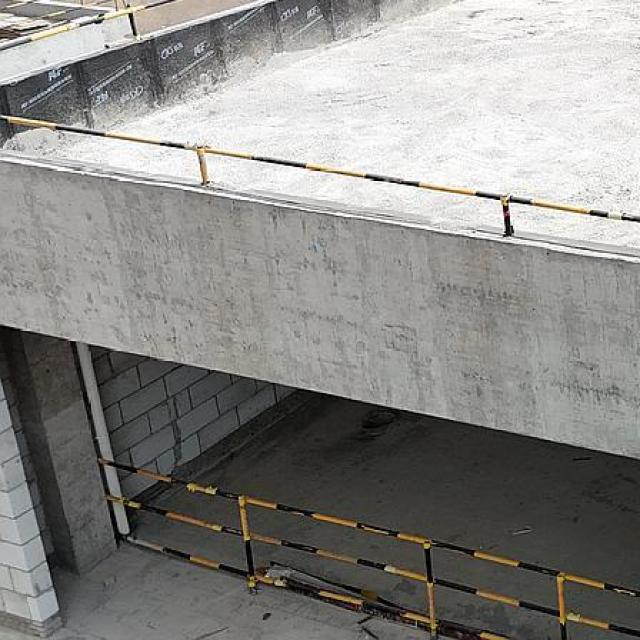edge_guardrail: (95, 455, 640, 640), (0, 112, 640, 237), (0, 0, 177, 37)
